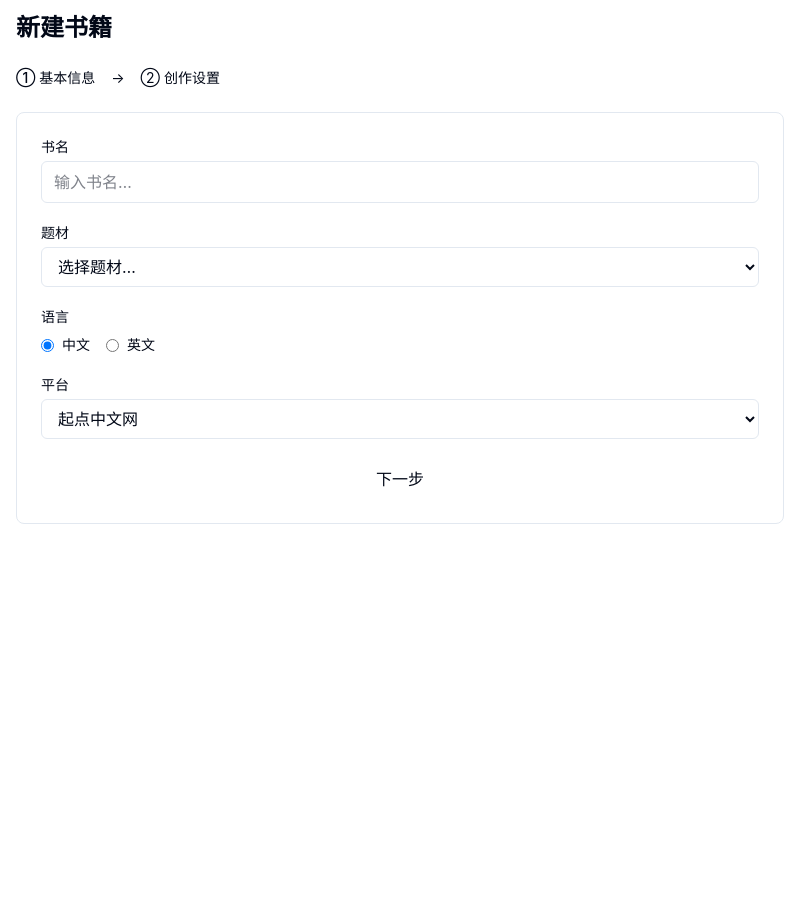
it: BookCreate Page › advances to step 2 and shows creation settings fields
In the field with placeholder "输入书名…": (400, 182) [41,161,759,203], type "测试小说"
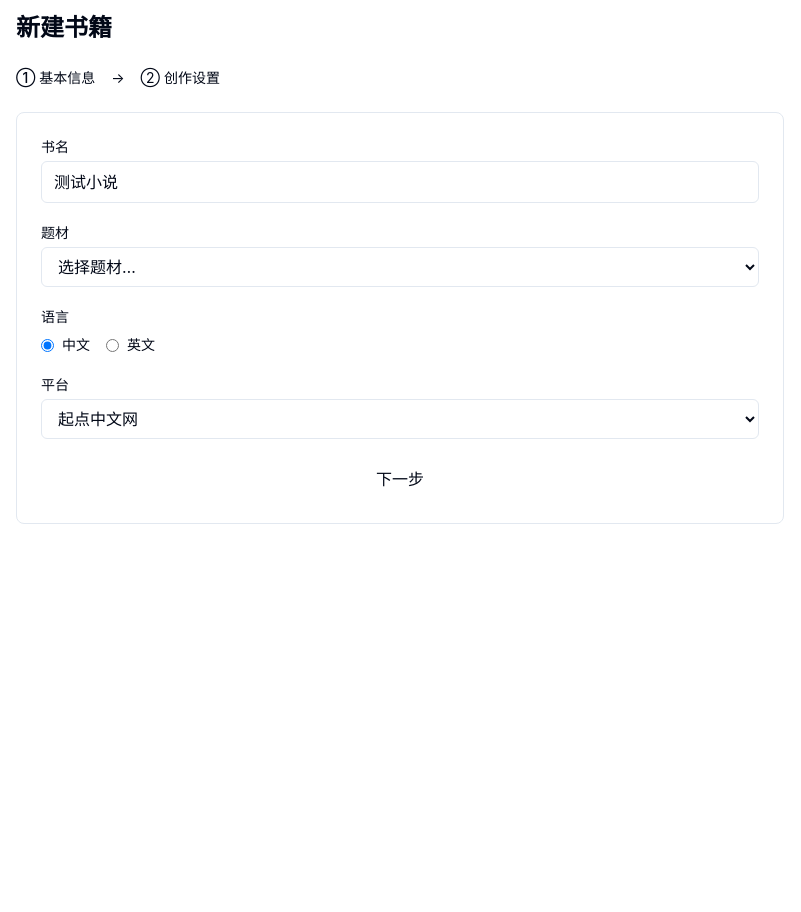
Select "玄幻" in the dropdown labelled "题材": (400, 267) [41,247,759,287]
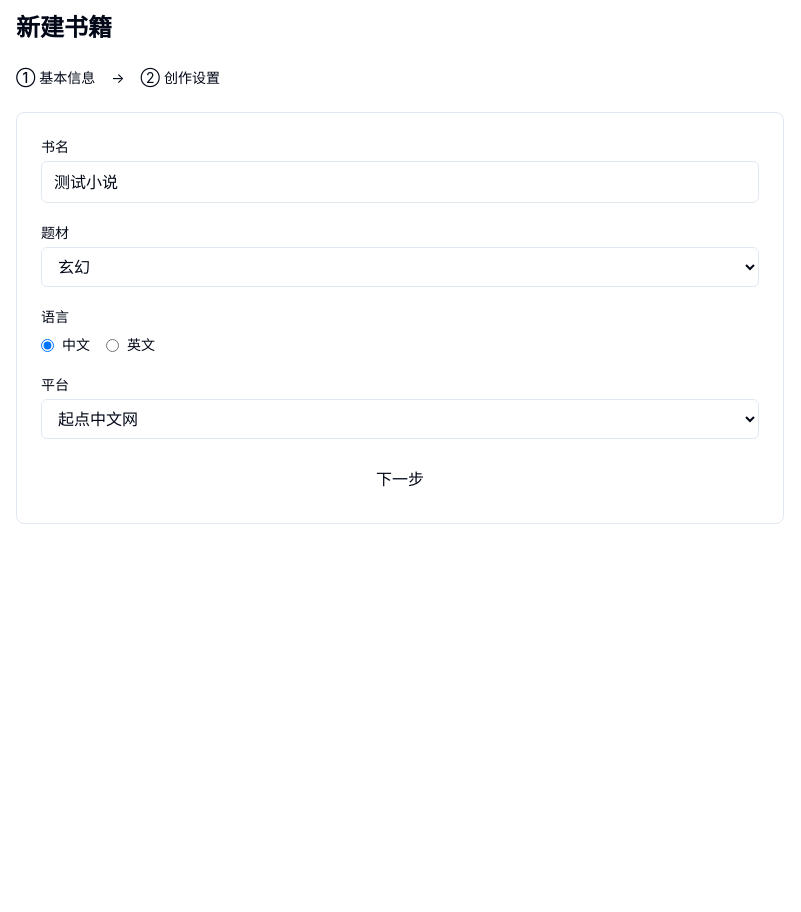
Click the button "下一步": (400, 479) [41,459,759,499]
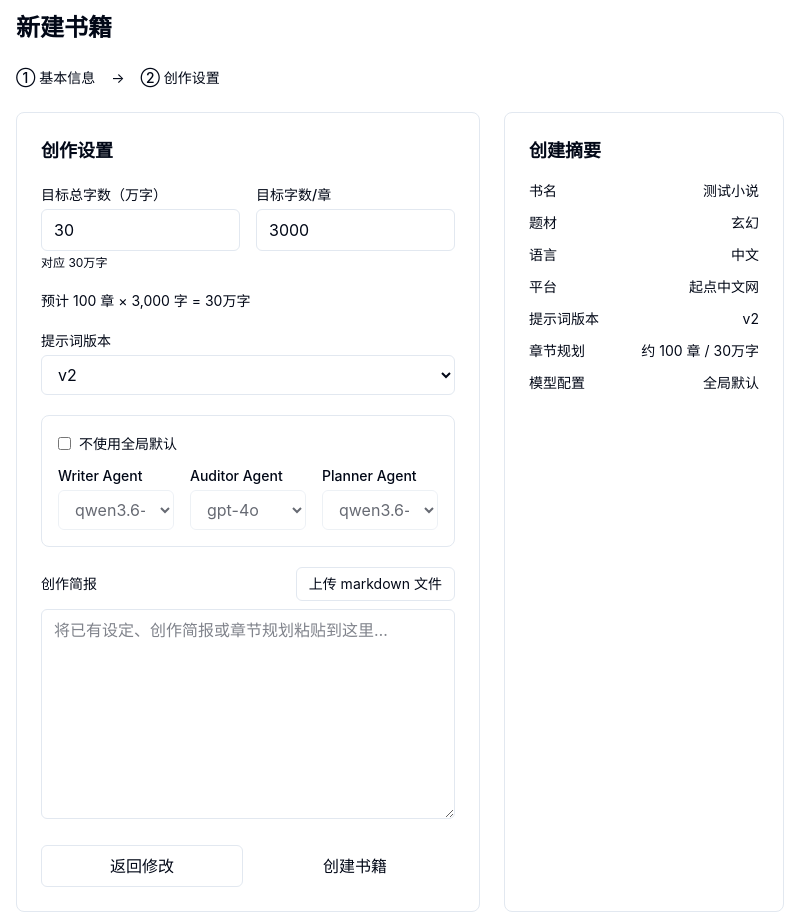
expect the heading "创作设置" is shown: met, box [41,140,113,161]
expect the field labelled "目标总字数（万字）" is shown: met, box [41,209,240,251]
expect the number field labelled "目标字数/章" is shown: met, box [256,209,455,251]
